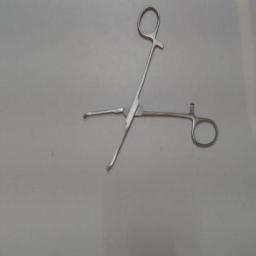Allis Tissue Forceps: (78, 2, 222, 180)
